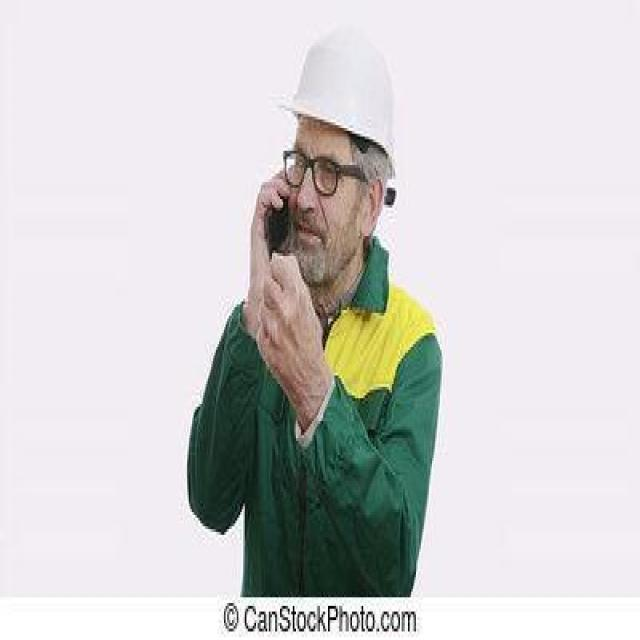hat: (277, 20, 397, 174)
